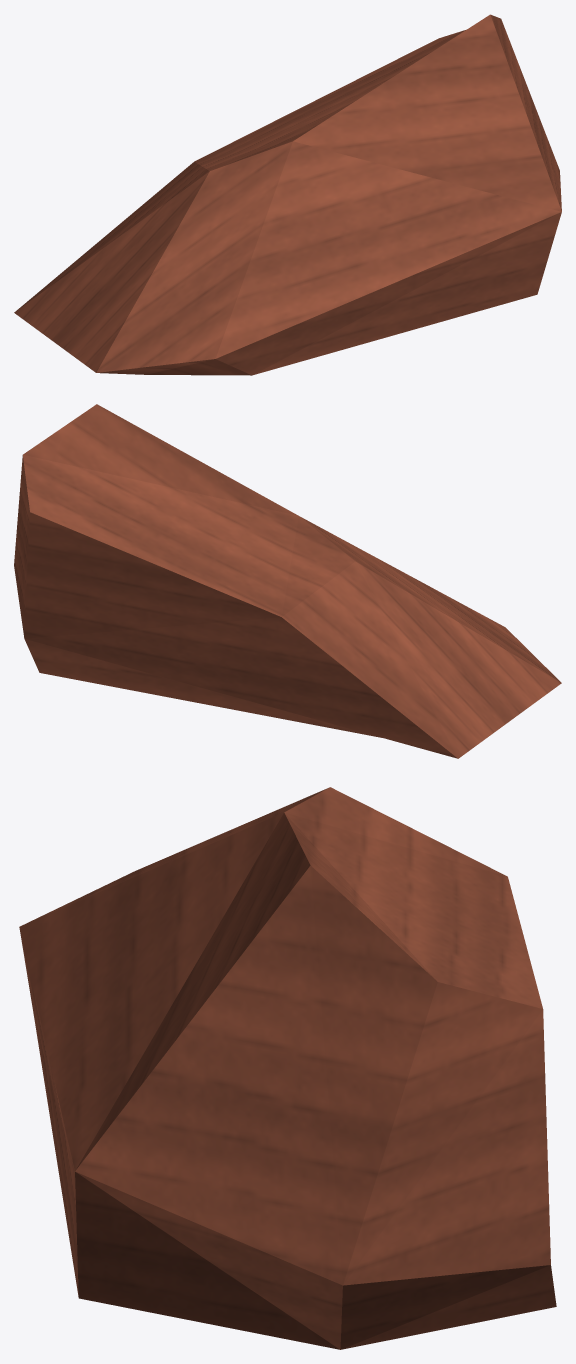
The model's file is outcrop_raised_bedding.glb.
3 renders of one model, top to bottom at view 1: azimuth 30°, elevation 25°; view 2: azimuth 150°, elevation 25°; view 3: azimuth 270°, elevation 25°, orthographic. The views are drawn at different scales.
Parts seen in each view (by area): view 1: outcrop_raised_bedding; view 2: outcrop_raised_bedding; view 3: outcrop_raised_bedding.
Boxes of the visible parts, left/top/right/bottom form: outcrop_raised_bedding: left=14, top=14, right=561, bottom=375; outcrop_raised_bedding: left=14, top=404, right=561, bottom=758; outcrop_raised_bedding: left=19, top=787, right=556, bottom=1349.
Size of the model in its own units: 2.75 by 1.18 by 1.29.
1 material, 1 textured.
